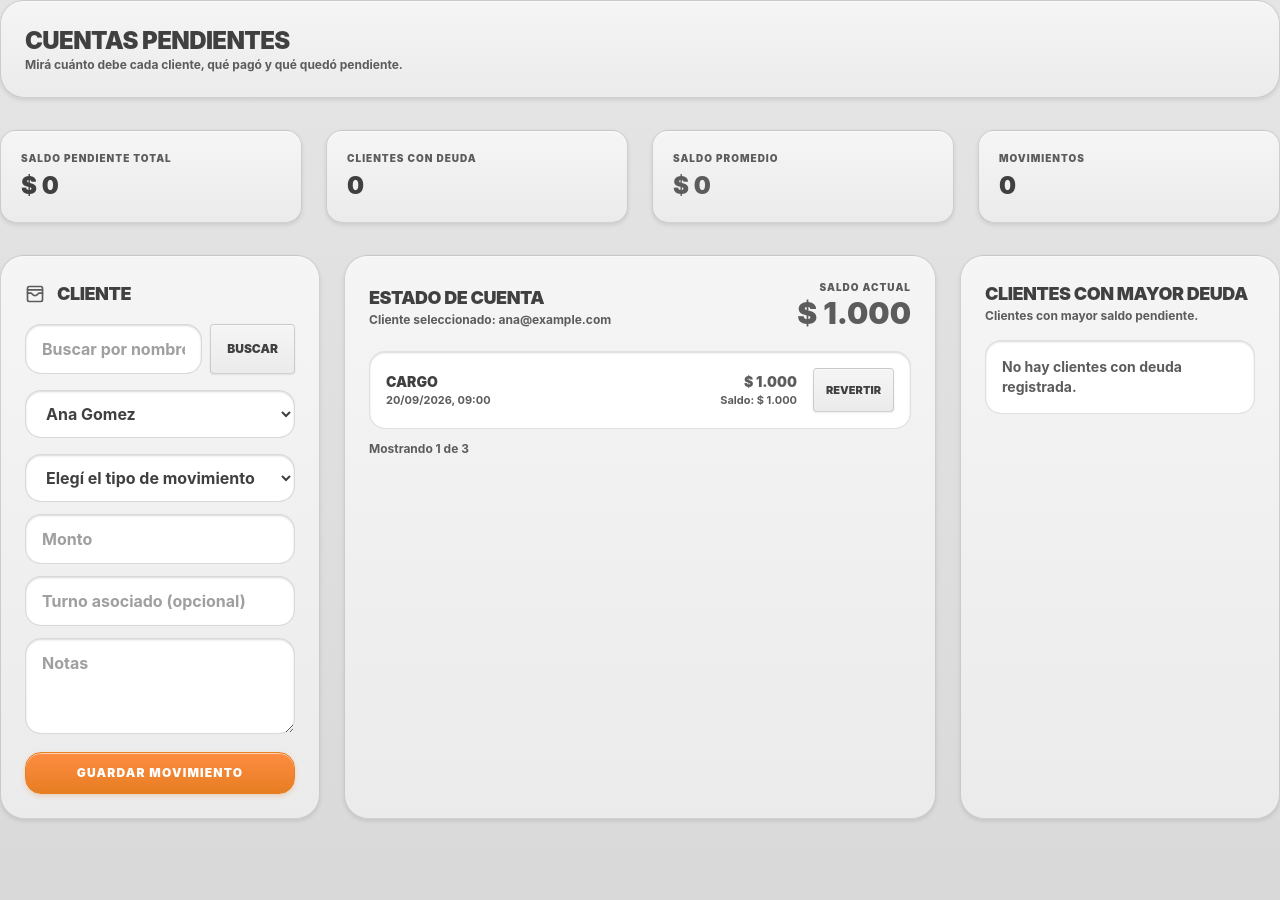
LedgerPage: cargar un movimiento › al guardar manda el tipo elegido y despues el tipo vuelve a "sin elegir", no a Cargo
The image size is (1280, 900).
Select "Pago" in the dropdown named "Tipo de movimiento" at point(160, 478), box [25, 454, 295, 502]
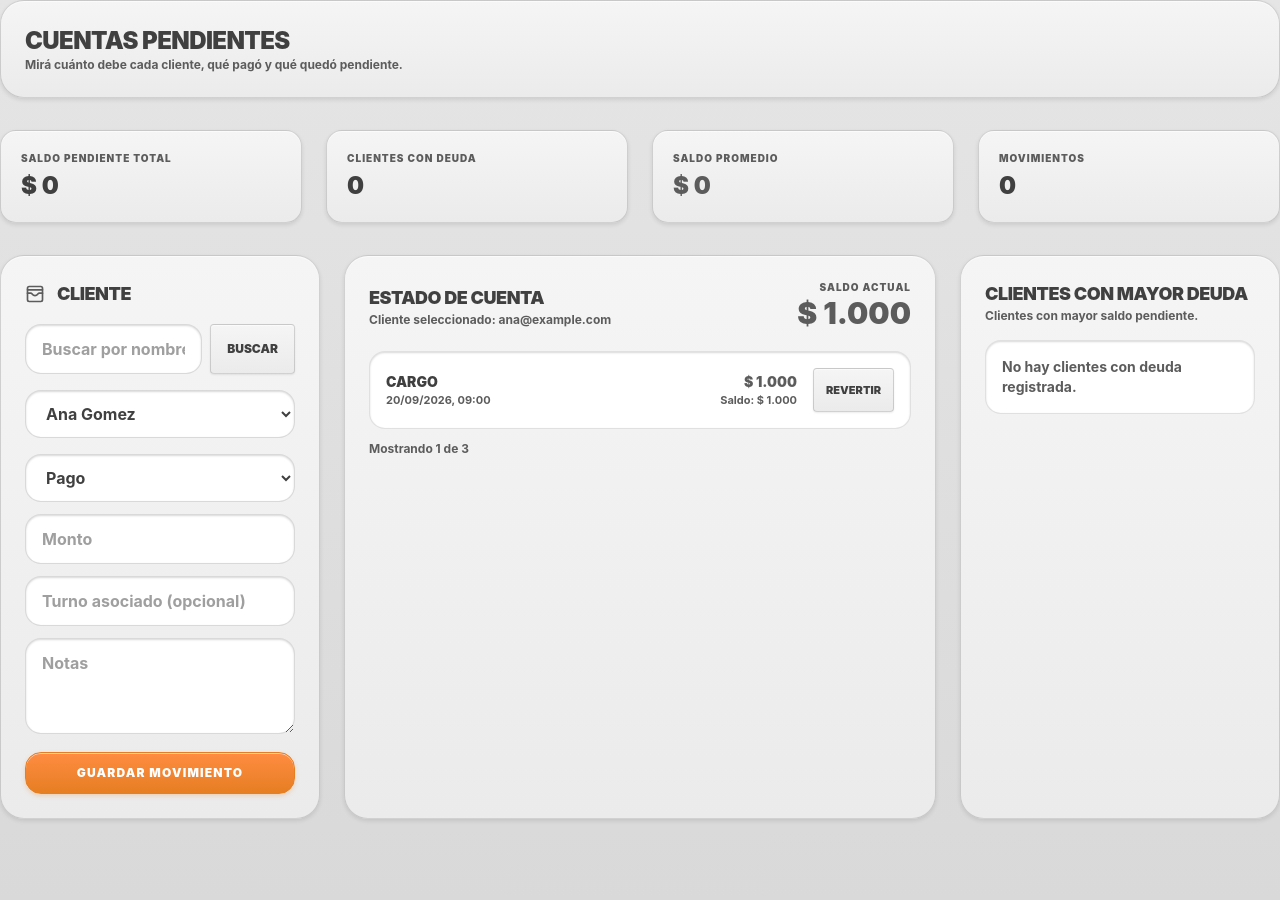
Type "500" into the field labelled "Monto" at point(160, 539), box [25, 514, 295, 564]
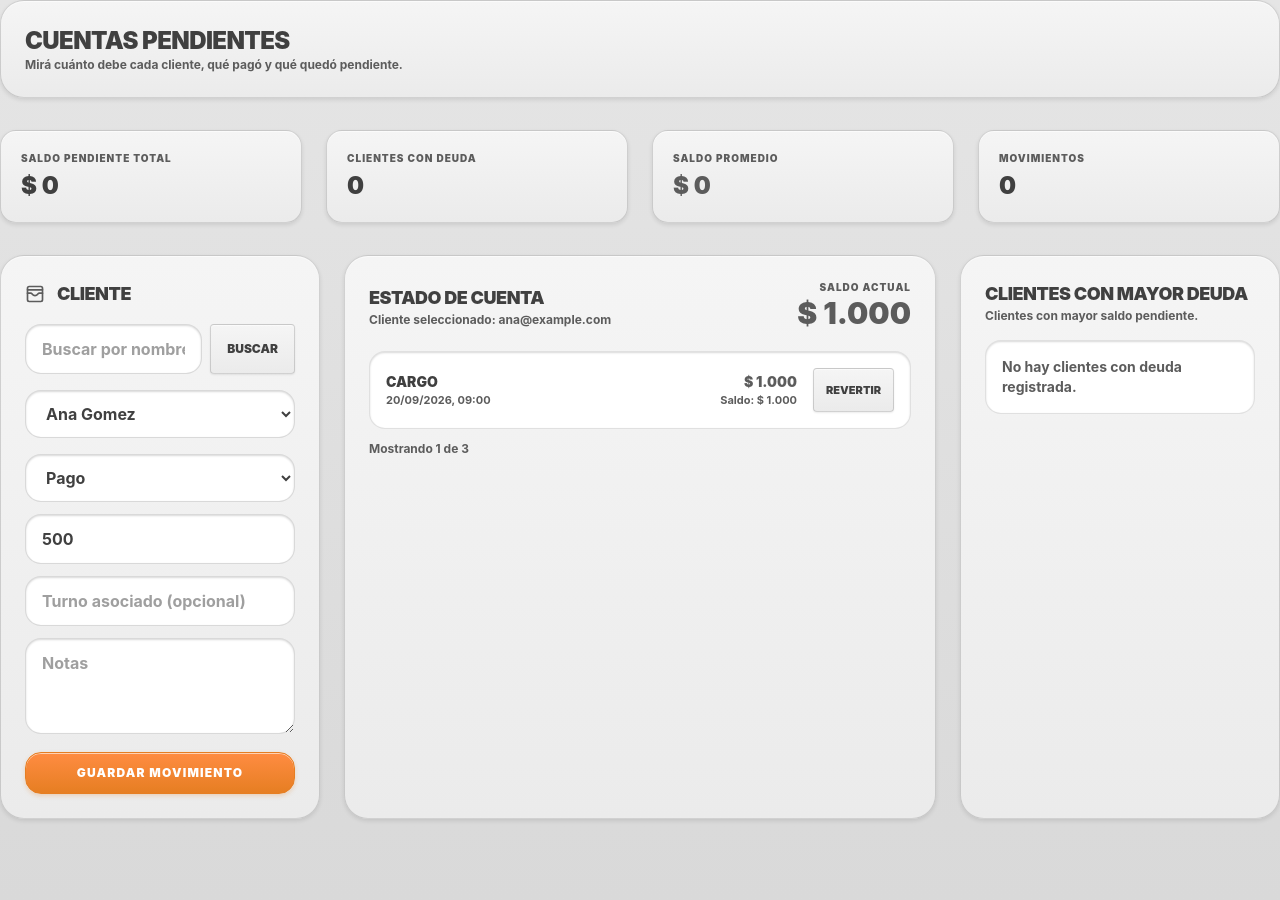
Click the button "Guardar movimiento" at point(160, 773), box [25, 752, 295, 794]
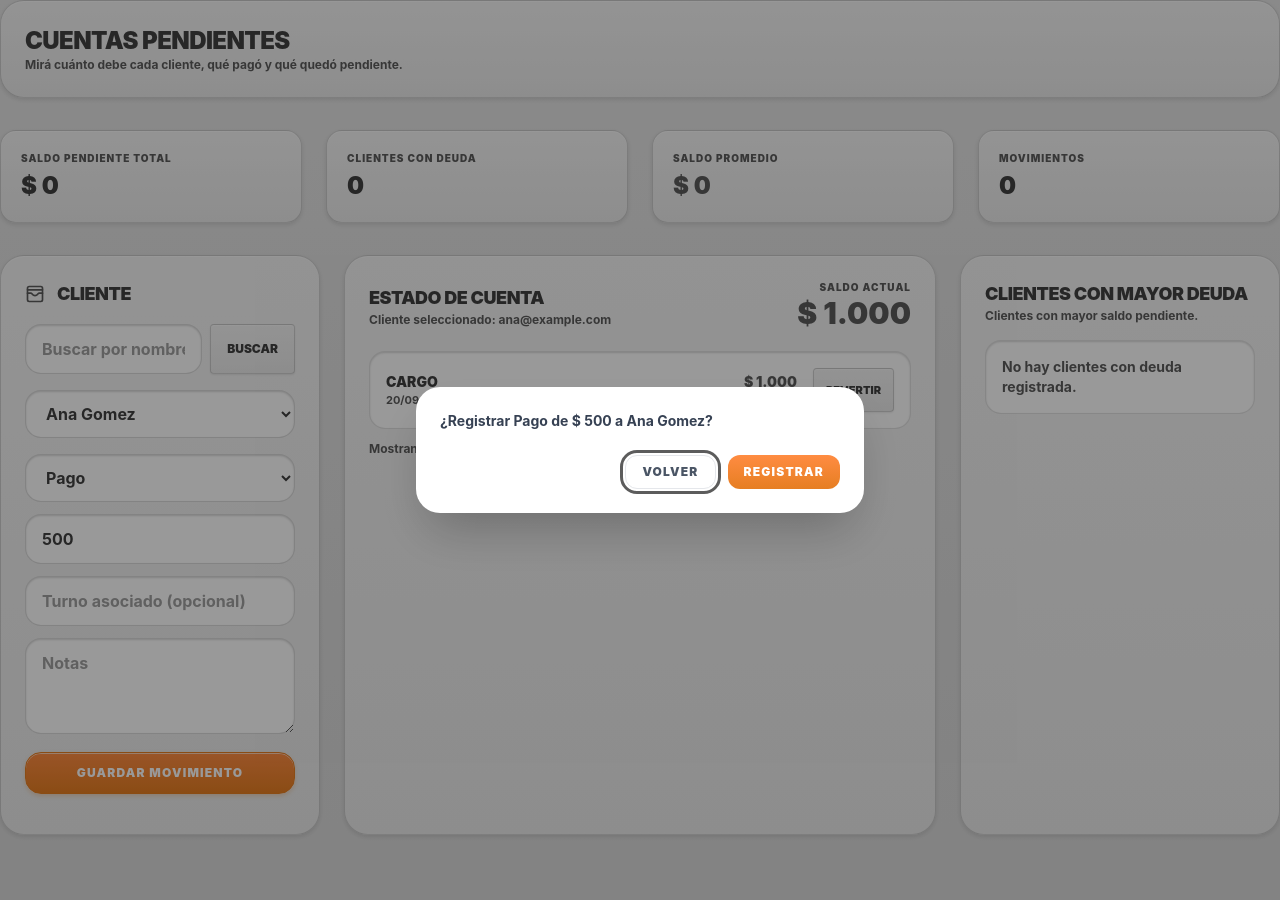
Click the button "Registrar" at point(784, 472), box [728, 455, 840, 489]
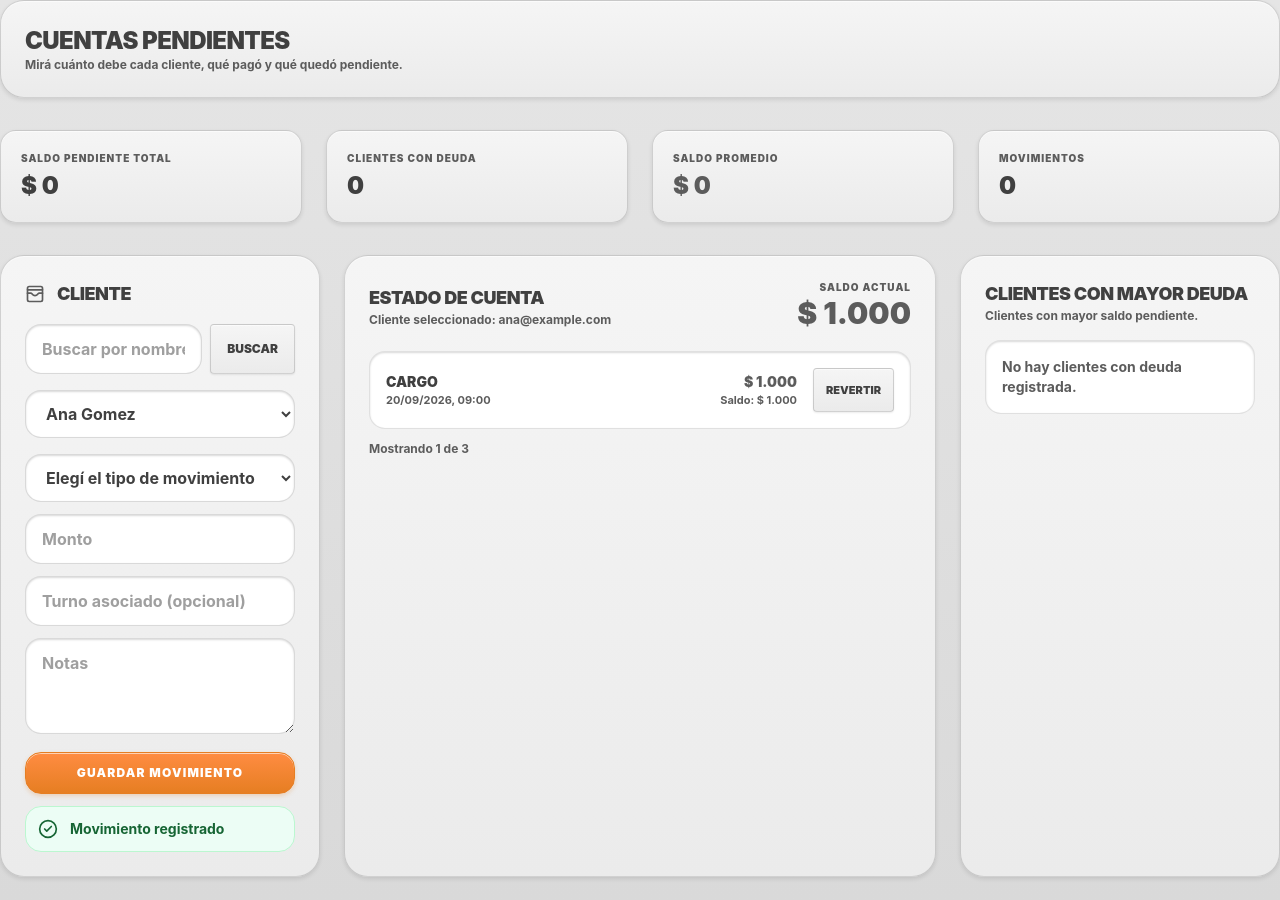
Now the message reads "Movimiento registrado", box [70, 820, 224, 837]
Now the field labelled "Monto" is empty, box [25, 514, 295, 564]
